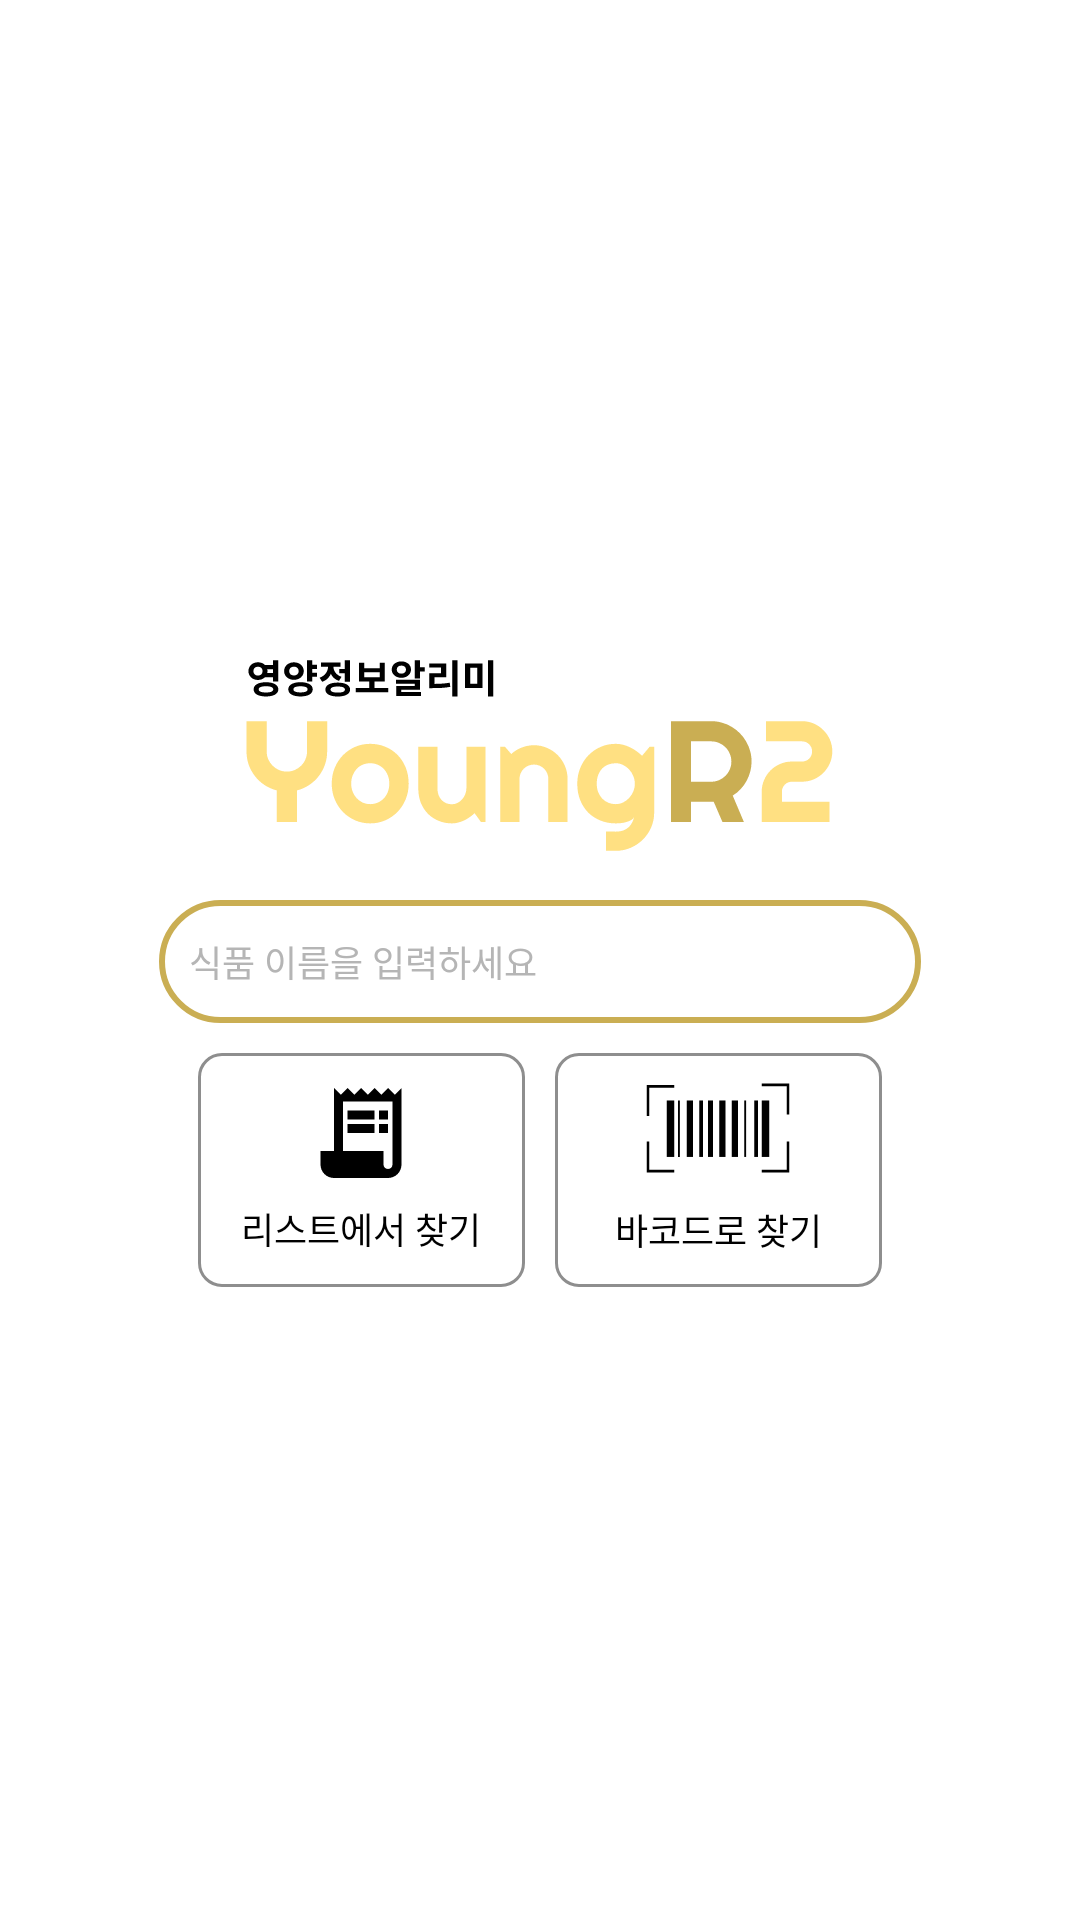

Screen size 1080*1920. Icon name, then its box in pixels as BBox(x1, y1, x2, y2):
receipt long: BBox(320, 1088, 402, 1178)
